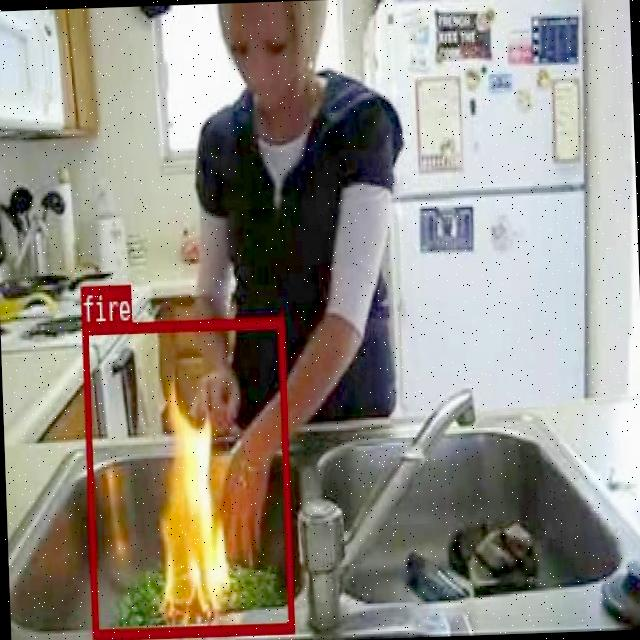fire: (80, 316, 292, 638)
